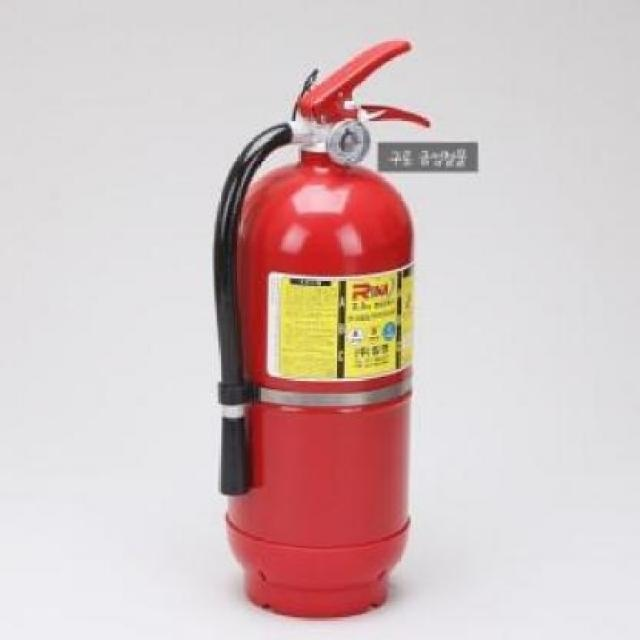fire extinguisher: (214, 38, 432, 620)
